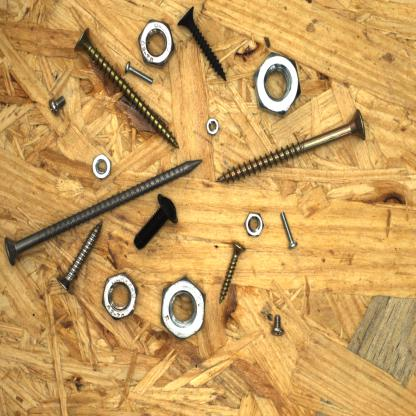screw: (2, 153, 205, 267), (71, 24, 183, 151), (213, 106, 370, 188), (175, 3, 229, 86), (53, 220, 105, 298), (130, 190, 180, 256), (216, 236, 248, 308), (277, 208, 301, 252), (123, 58, 155, 88), (46, 92, 72, 119), (268, 312, 288, 340)
